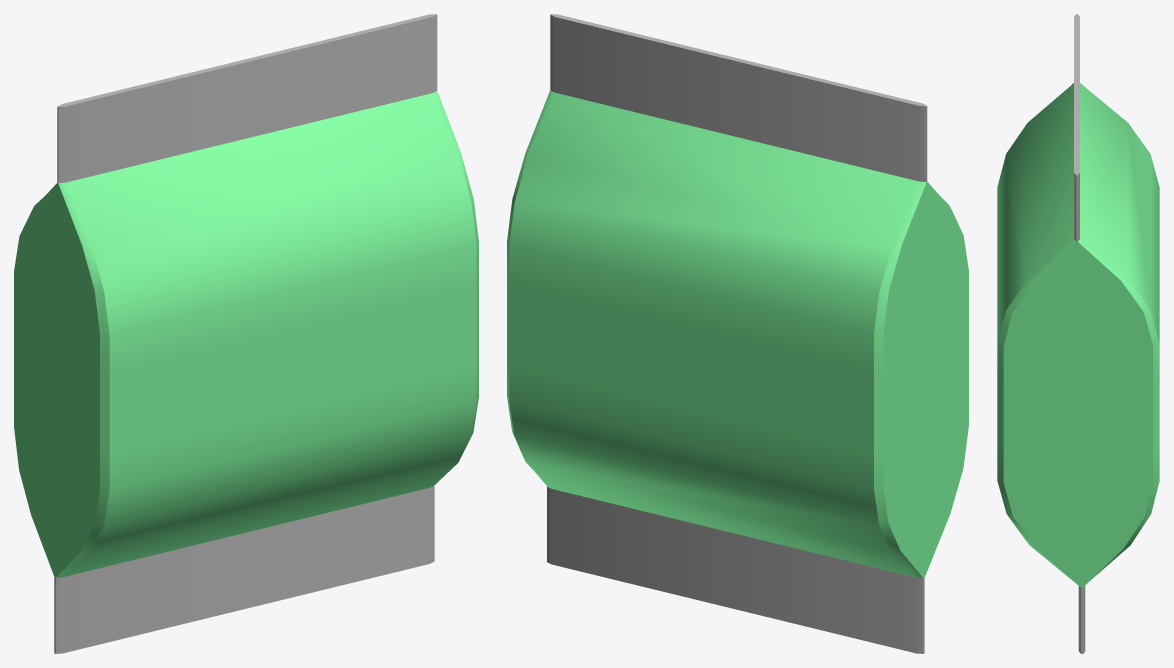
File: Props_CatFood.fbx
The picture shows the model from 3 angles, left to right: view 1: azimuth 30°, elevation 25°; view 2: azimuth 150°, elevation 25°; view 3: azimuth 270°, elevation 25°; orthographic projection. The views are drawn at different scales.
Visible parts, largest first — view 1: Props_CatFood; view 2: Props_CatFood; view 3: Props_CatFood.
Part boxes in pixels (x1=…): Props_CatFood: x1=14, y1=14, x2=478, y2=653; Props_CatFood: x1=507, y1=14, x2=968, y2=653; Props_CatFood: x1=997, y1=14, x2=1159, y2=653.
Bounding box in the file's own units: 27.86 × 38.56 × 11.87.
